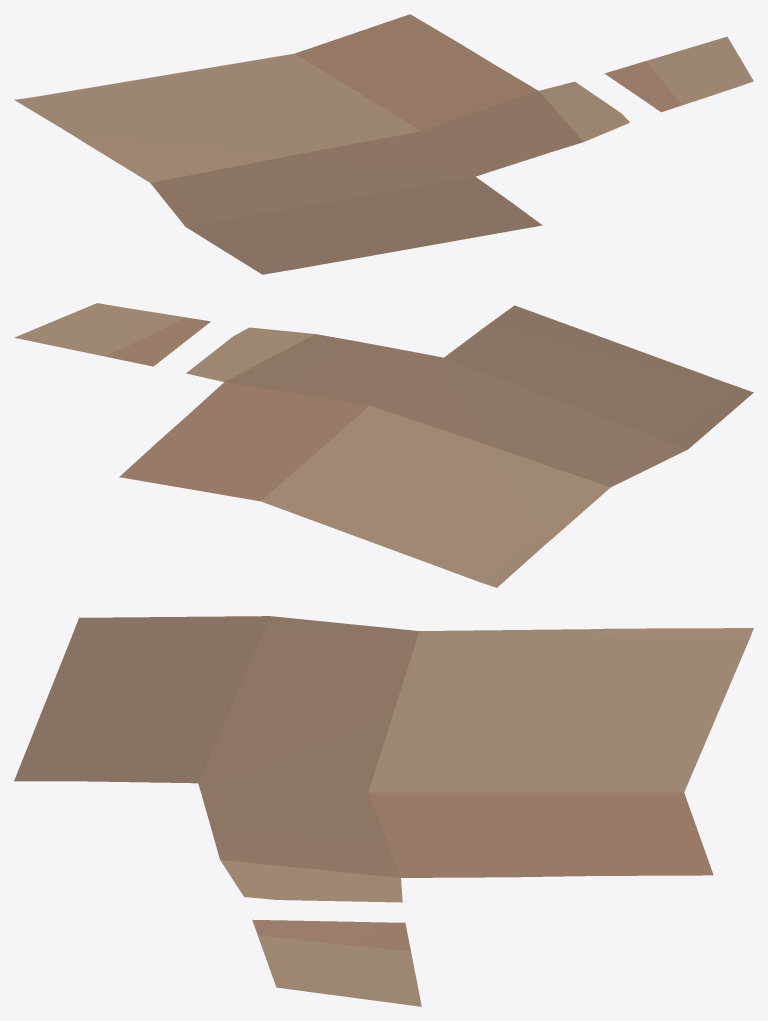
File: farm_24_31_soil.glb
3 views of the same model, one above another, from view 1: azimuth 30°, elevation 25°; view 2: azimuth 150°, elevation 25°; view 3: azimuth 270°, elevation 25° (orthographic). The views are drawn at different scales.
Parts seen in each view (by area): view 1: geometry_0; view 2: geometry_0; view 3: geometry_0.
Boxes of the visible parts, x1=… form: geometry_0: x1=14, y1=14, x2=753, y2=274; geometry_0: x1=14, y1=303, x2=753, y2=587; geometry_0: x1=14, y1=616, x2=753, y2=1006.
Size of the model in its own units: 149 by 2.88 by 118.
